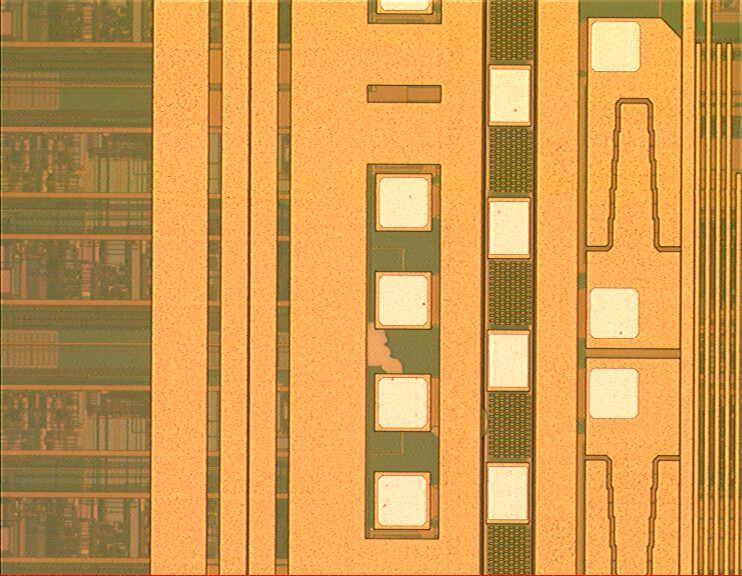BLOCK ETCH: (361, 316, 412, 390)
